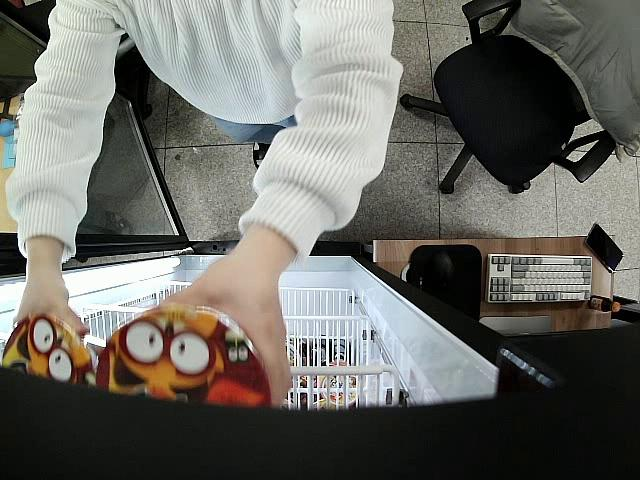00_hand: (139, 252, 292, 407), (13, 273, 89, 339)
05_nuguri_L: (95, 305, 273, 411), (3, 316, 95, 389)
